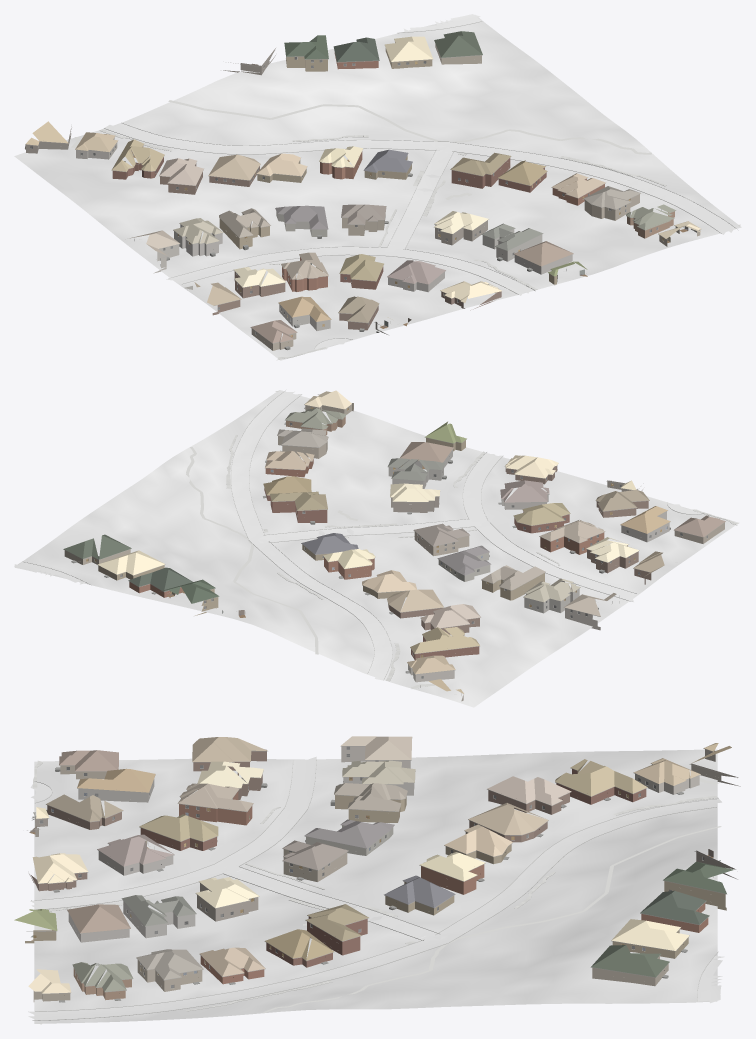
3 views of the same model, one above another, from view 1: azimuth 30°, elevation 25°; view 2: azimuth 150°, elevation 25°; view 3: azimuth 270°, elevation 25° (orthographic). The views are drawn at different scales.
Parts seen in each view (by area): view 1: ground, roof, concrete, wall, walk, curb, wall_stone, detail, wall_stucco; view 2: ground, roof, concrete, wall, detail, walk, wall_stone, curb, wall_stucco; view 3: ground, roof, wall, concrete, detail, curb, wall_stone, walk, wall_stucco, glass.
Boxes of the visible parts, x1=… form: ground: x1=14, y1=17, x2=741, y2=360; roof: x1=25, y1=31, x2=700, y2=343; concrete: x1=104, y1=14, x2=734, y2=350; wall: x1=25, y1=42, x2=700, y2=350; walk: x1=71, y1=100, x2=740, y2=359; curb: x1=101, y1=21, x2=737, y2=359; wall_stone: x1=174, y1=224, x2=572, y2=330; detail: x1=25, y1=37, x2=701, y2=350; wall_stucco: x1=76, y1=138, x2=327, y2=273; ground: x1=14, y1=390, x2=739, y2=707; roof: x1=64, y1=390, x2=725, y2=693; concrete: x1=14, y1=391, x2=701, y2=680; wall: x1=64, y1=403, x2=724, y2=701; detail: x1=63, y1=394, x2=725, y2=696; walk: x1=186, y1=390, x2=738, y2=688; wall_stone: x1=388, y1=450, x2=669, y2=613; curb: x1=23, y1=390, x2=736, y2=680; wall_stucco: x1=408, y1=552, x2=600, y2=682; ground: x1=34, y1=749, x2=717, y2=1023; roof: x1=14, y1=736, x2=733, y2=993; wall: x1=25, y1=749, x2=740, y2=1001; concrete: x1=28, y1=756, x2=724, y2=1020; detail: x1=26, y1=746, x2=731, y2=1002; curb: x1=28, y1=759, x2=718, y2=1020; wall_stone: x1=68, y1=777, x2=414, y2=942; walk: x1=33, y1=760, x2=721, y2=1024; wall_stucco: x1=306, y1=746, x2=699, y2=855; glass: x1=40, y1=746, x2=711, y2=988.
Size of the model in its own units: 256 by 30.08 by 266.
